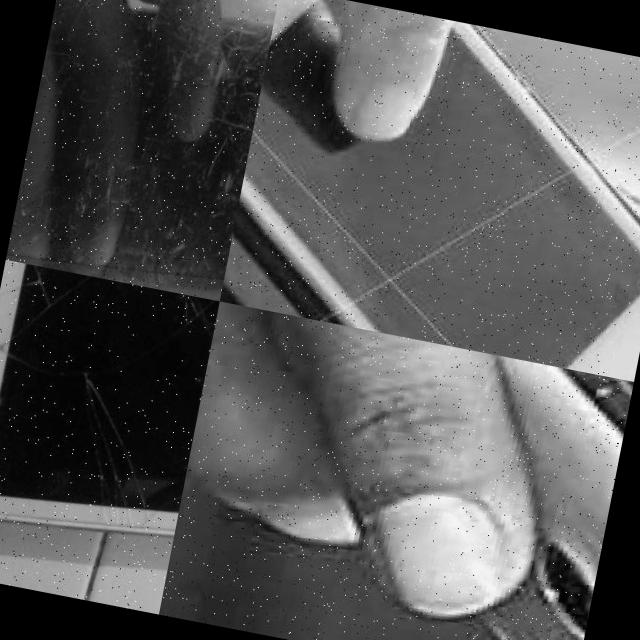scratch: (83, 0, 281, 185)
screen crack: (0, 259, 84, 457)
